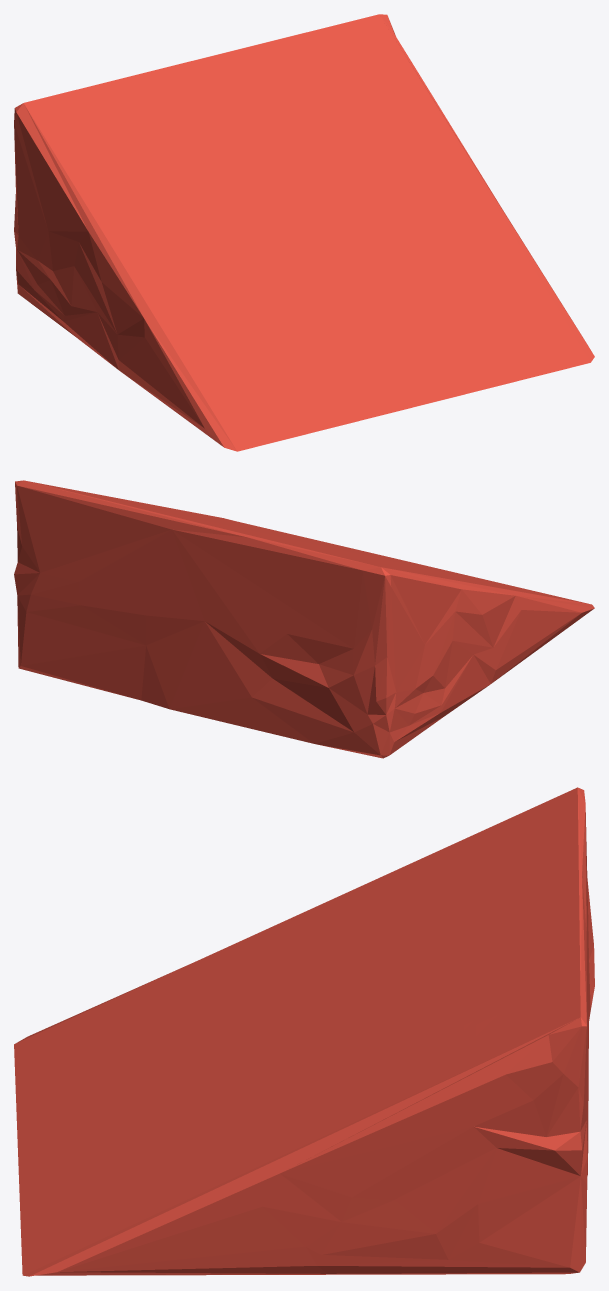
The model's file is SM_Greenscreen_Ramp_Half.fbx.
3 views of the same model, one above another, from view 1: azimuth 30°, elevation 25°; view 2: azimuth 150°, elevation 25°; view 3: azimuth 270°, elevation 25° (orthographic). The views are drawn at different scales.
Visible parts, largest first — view 1: SM_Greenscreen_Ramp_Half; view 2: SM_Greenscreen_Ramp_Half; view 3: SM_Greenscreen_Ramp_Half.
Part boxes in pixels (x1,y1,x2,y2): SM_Greenscreen_Ramp_Half: [14, 14, 594, 451]; SM_Greenscreen_Ramp_Half: [14, 480, 594, 758]; SM_Greenscreen_Ramp_Half: [14, 787, 594, 1276].
Size of the model in its own units: 101 by 101 by 49.4.
